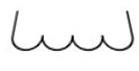inductor: (8, 6, 134, 51)
